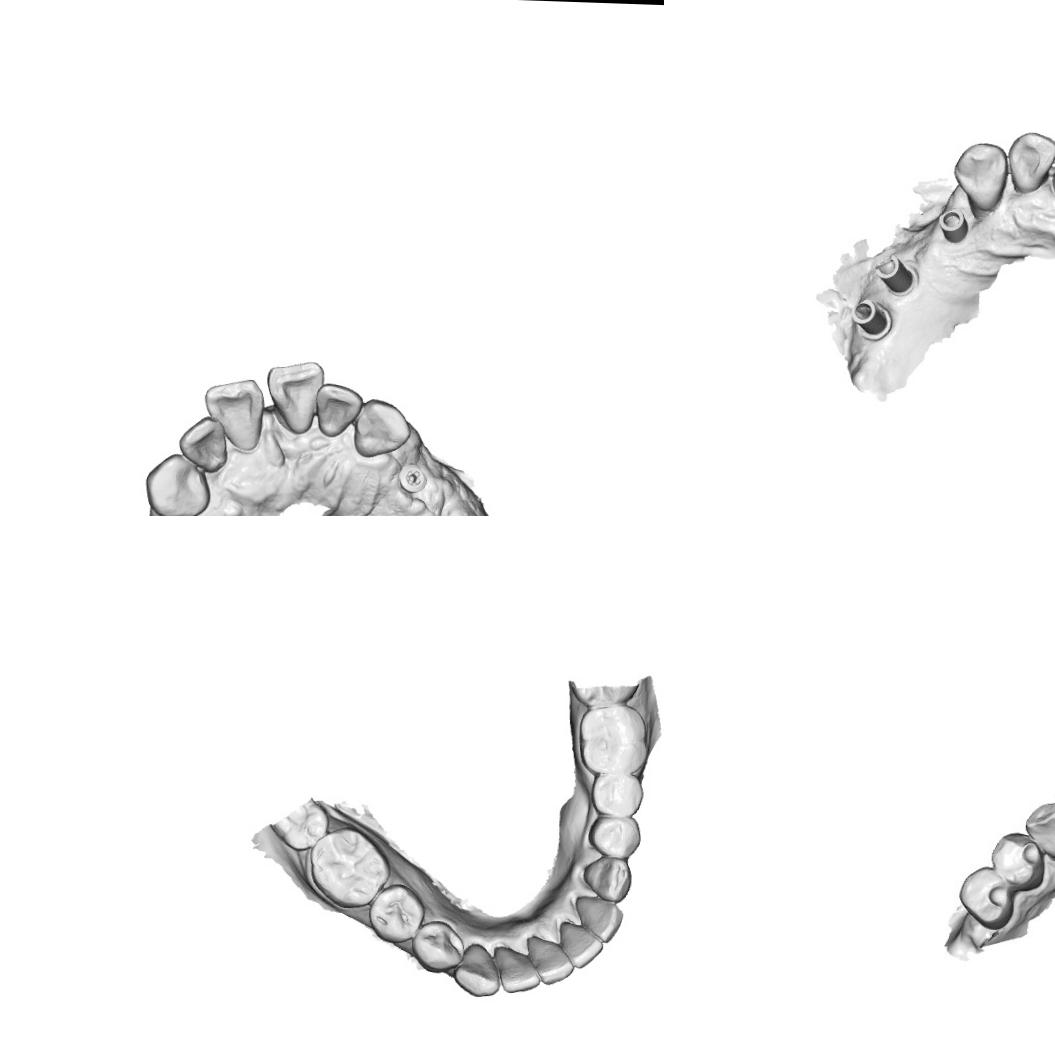canine: (143, 451, 212, 516), (952, 141, 1008, 212), (352, 396, 413, 460), (452, 942, 502, 999), (582, 856, 634, 904), (1023, 798, 1055, 865)
implant: (847, 296, 894, 342), (871, 253, 918, 298), (936, 205, 970, 245)
implant_plus: (396, 462, 430, 495)
incisor: (201, 376, 266, 453), (263, 358, 326, 436), (176, 414, 230, 475), (1007, 130, 1055, 196), (314, 382, 364, 441), (524, 933, 576, 986), (572, 894, 624, 944), (492, 944, 542, 995), (556, 920, 604, 970)
molar: (306, 825, 392, 909), (575, 702, 652, 776)
premolar: (958, 864, 1016, 934), (988, 829, 1049, 895), (366, 882, 426, 945), (410, 918, 466, 974), (589, 773, 645, 817), (587, 814, 642, 858)
